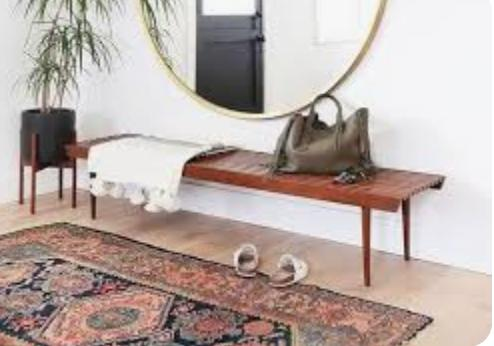carpet: (0, 222, 431, 345)
